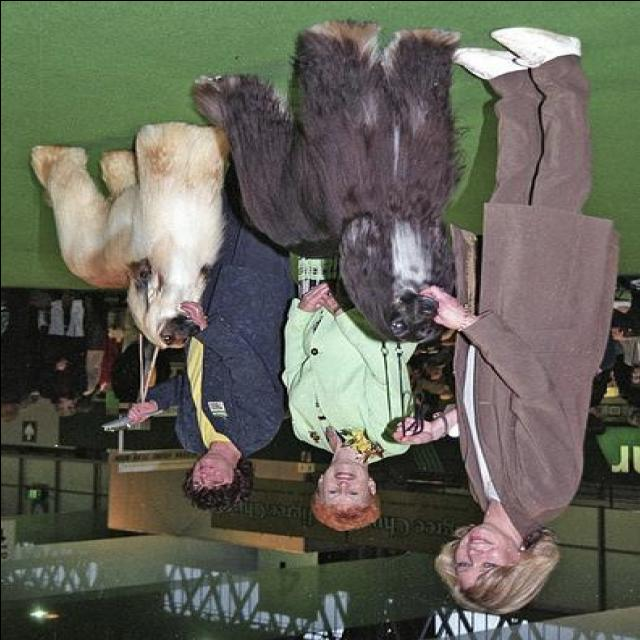afghan_hound: (188, 17, 454, 346), (26, 119, 234, 355)
